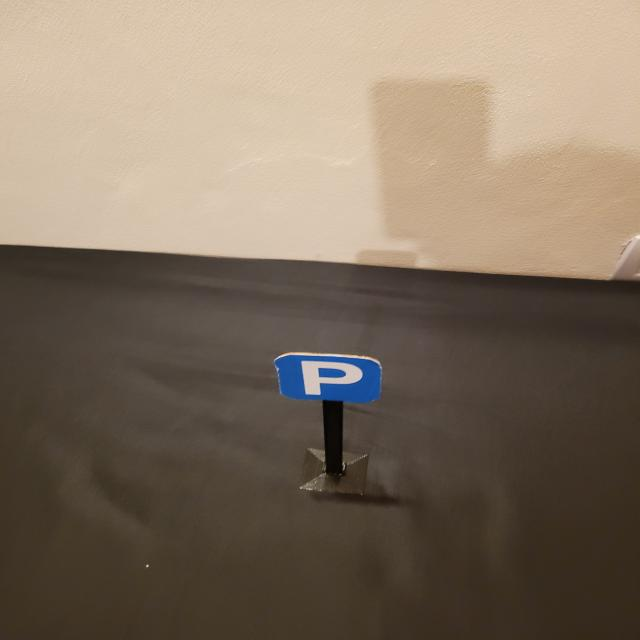parking: (272, 352, 382, 403)
